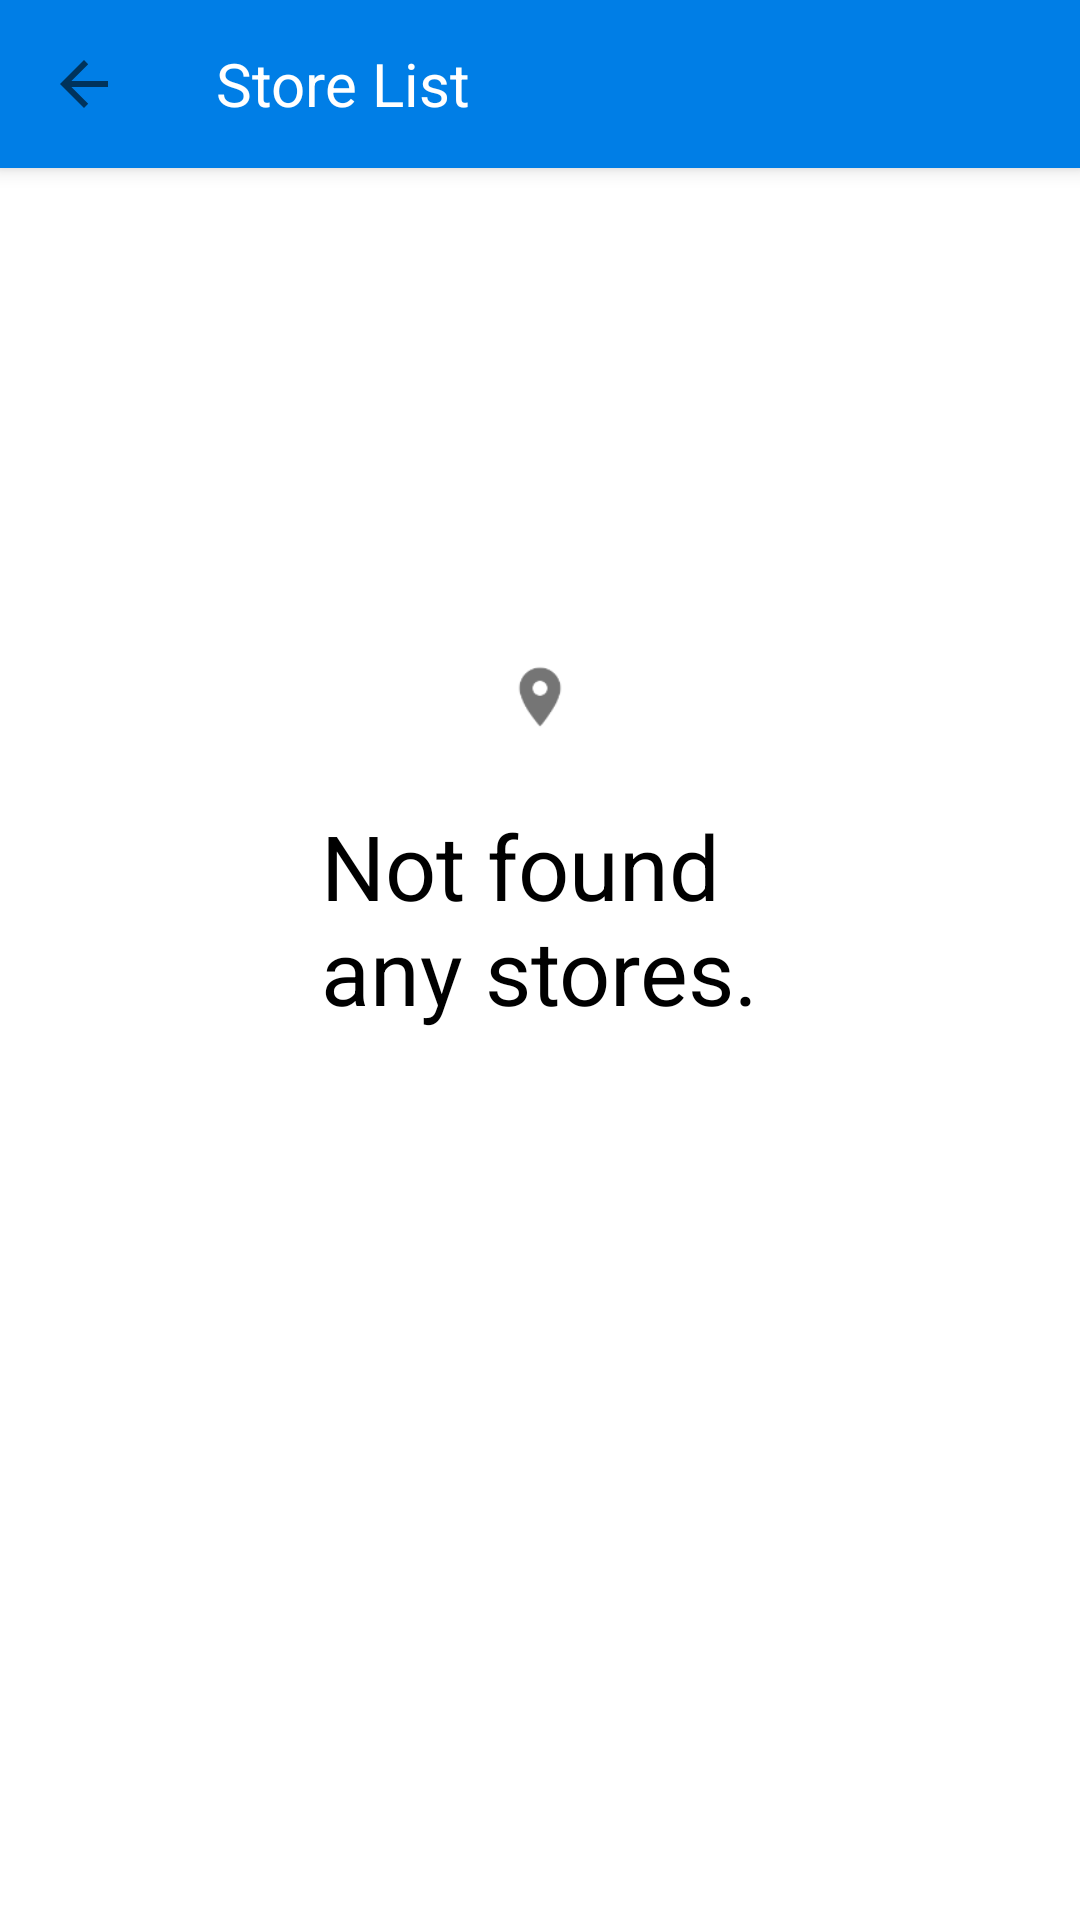

Icon click points for this 1080px×1920px phone screenshot, format (x=x, y=y):
location on: (x=540, y=696)
